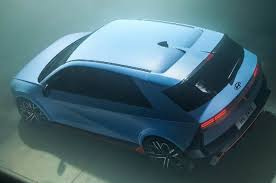Honda Ioniq: (8, 16, 274, 176)
